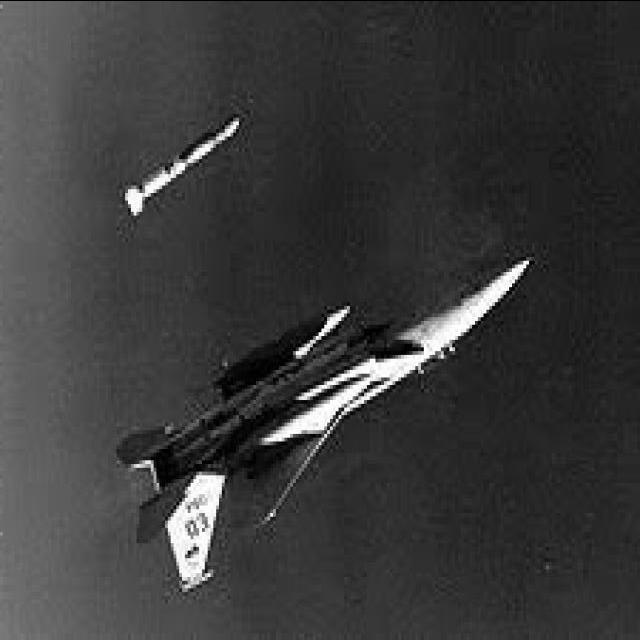missile: (123, 109, 261, 231)
